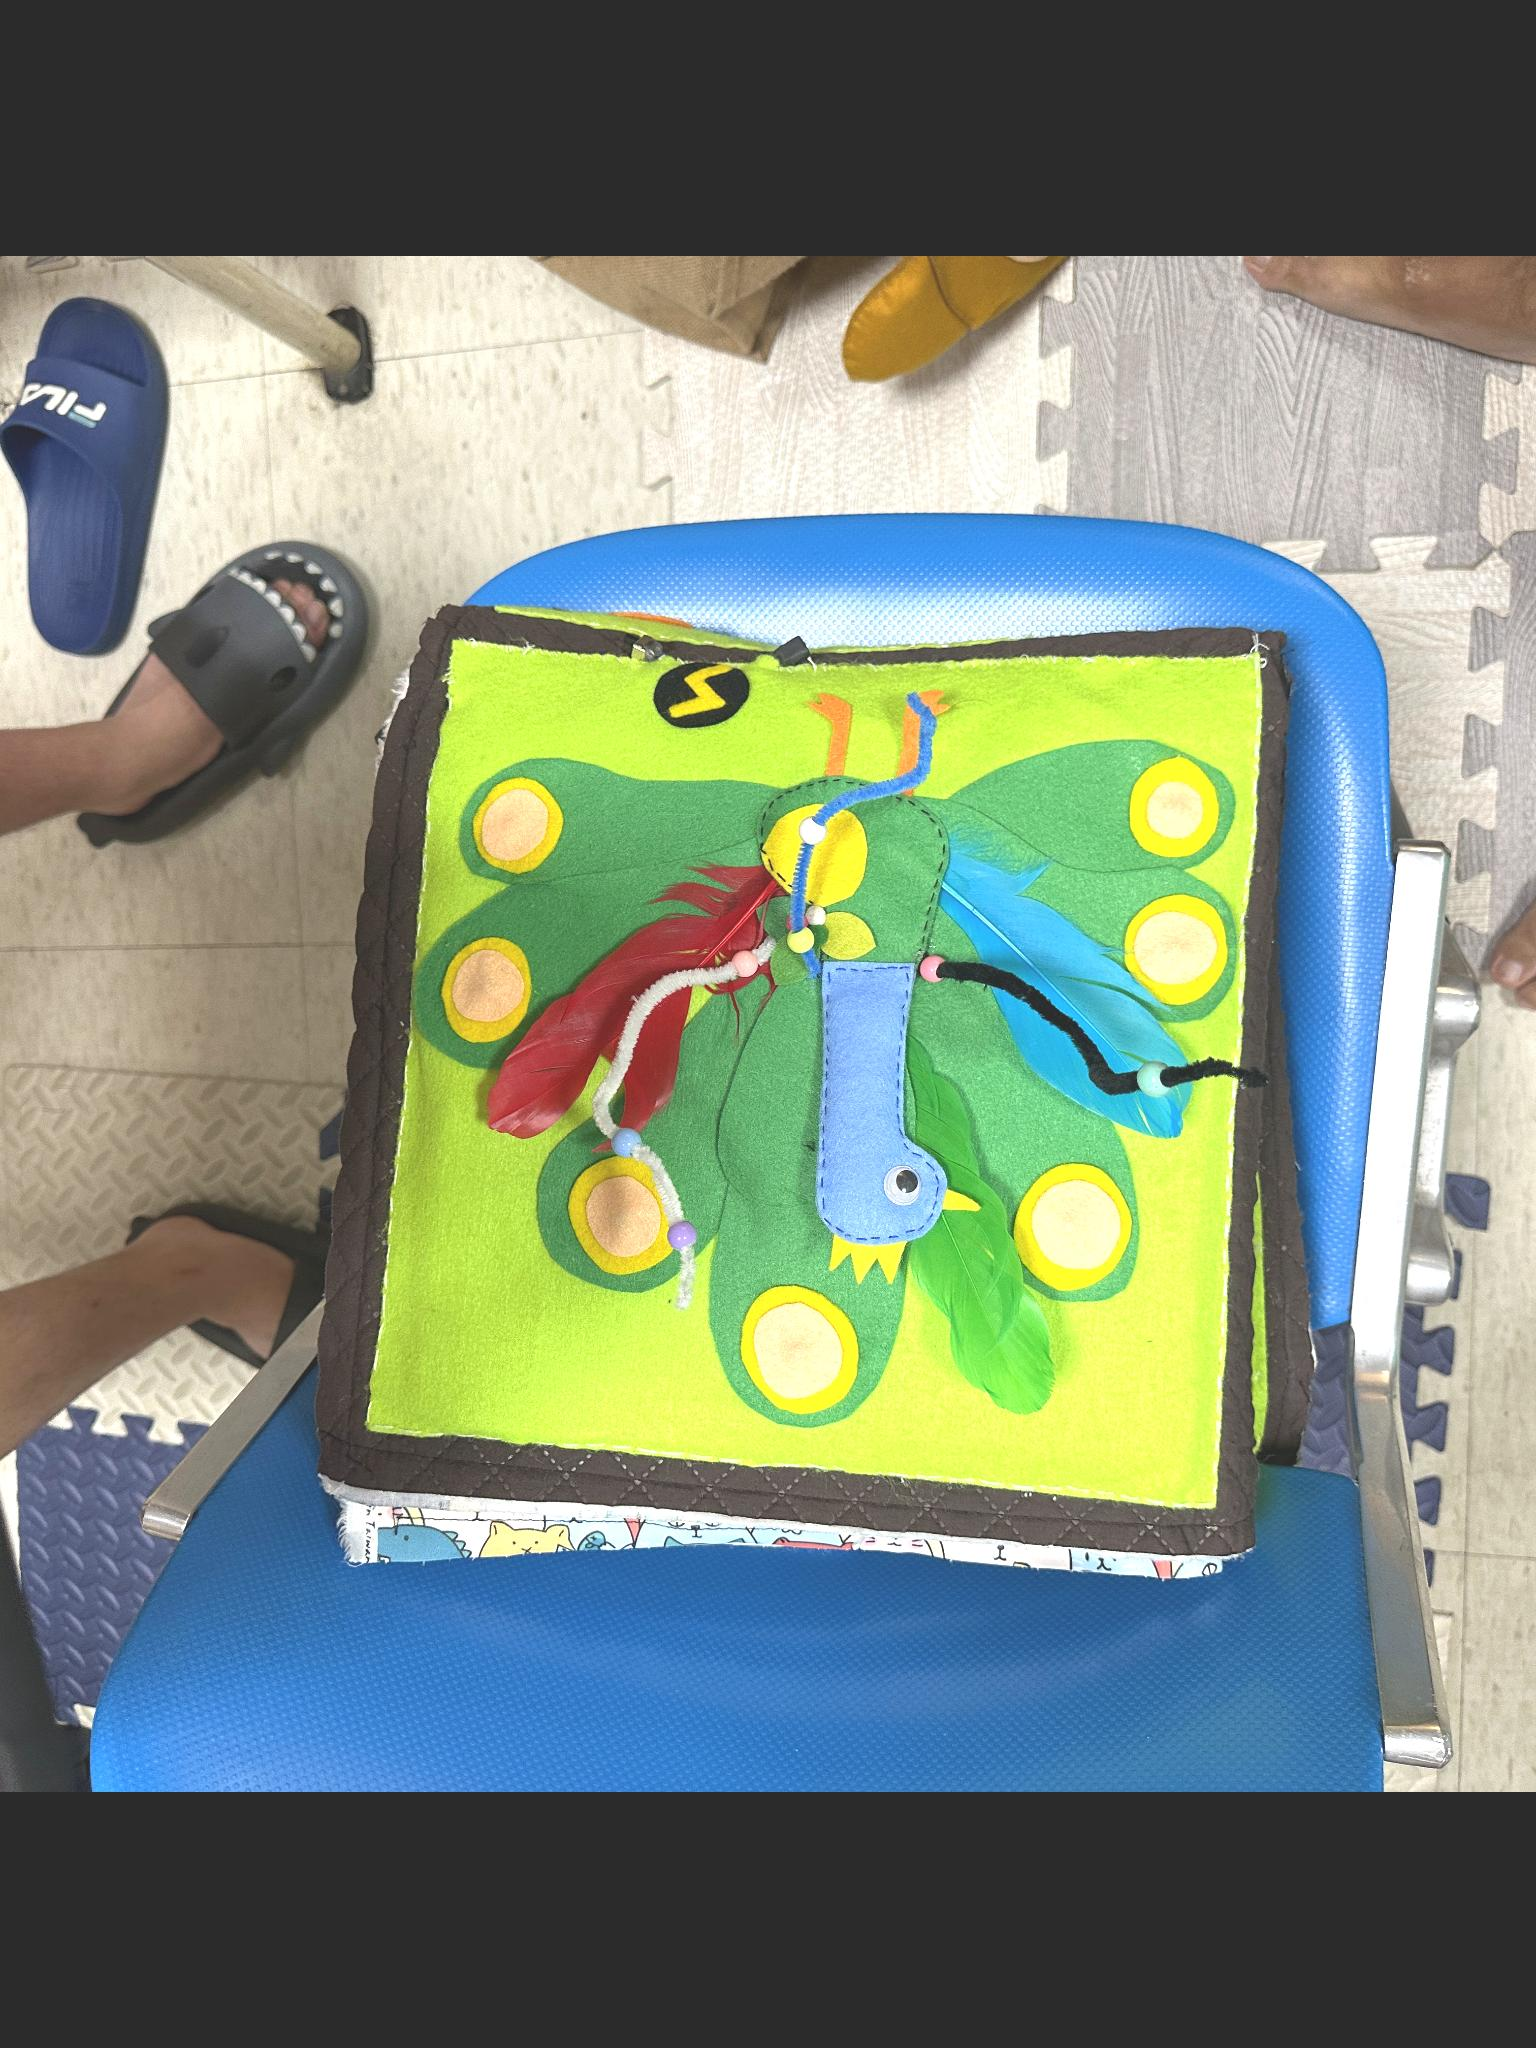bead: (1126, 1056, 1171, 1101), (789, 808, 836, 843), (607, 1122, 645, 1164), (660, 1218, 700, 1256), (916, 945, 949, 989), (723, 943, 758, 979), (781, 922, 813, 959)
